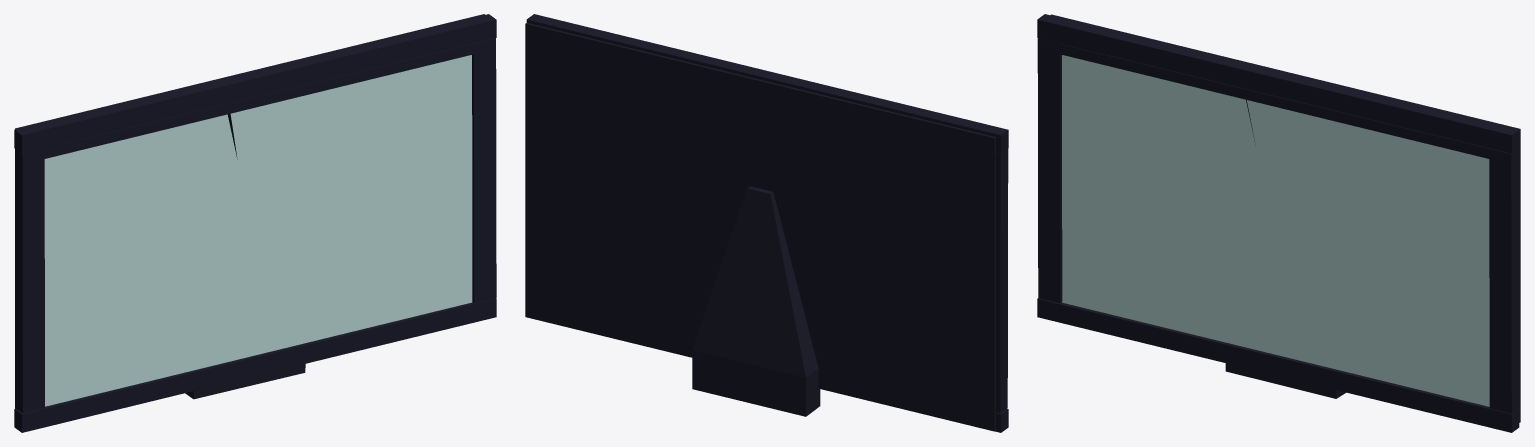
3 renders of one model, left to right at view 1: azimuth 30°, elevation 25°; view 2: azimuth 150°, elevation 25°; view 3: azimuth 330°, elevation 25°, orthographic.
Parts seen in each view (by area): view 1: Cube.001, Cube.001_cell.008, Cube.001_cell.073, Cube.001_cell.032, Cube.001_cell.031, Cube.001_cell.028, Cube.001_cell.033, Cube.001_cell.017, Cube.001_cell.013, Cube.001_cell.079, Cube.001_cell.065, Cube.001_cell.083 (+8 smaller); view 2: Cube.001, Cube.001_cell.029, Cube.001_cell.087, Cube.001_cell.050, Cube.001_cell.025, Cube.001_cell.070, Cube.001_cell.022, Cube.001_cell.044, Cube.001_cell.049, Cube.001_cell.069, Cube.001_cell.023, Cube.001_cell.027 (+8 smaller); view 3: Cube.001, Cube.001_cell.008, Cube.001_cell.032, Cube.001_cell.031, Cube.001_cell.073, Cube.001_cell.028, Cube.001_cell.033, Cube.001_cell.017, Cube.001_cell.079, Cube.001_cell.083, Cube.001_cell.065, Cube.001_cell.013 (+8 smaller).
Boxes of the visible parts, x1,y1,x2,y2 form: Cube.001: [14, 14, 496, 432]; Cube.001_cell.008: [127, 81, 237, 235]; Cube.001_cell.073: [201, 152, 354, 276]; Cube.001_cell.032: [262, 69, 374, 192]; Cube.001_cell.031: [380, 80, 496, 203]; Cube.001_cell.028: [369, 51, 441, 180]; Cube.001_cell.033: [82, 100, 142, 227]; Cube.001_cell.017: [30, 113, 94, 231]; Cube.001_cell.013: [61, 220, 141, 271]; Cube.001_cell.079: [439, 38, 496, 91]; Cube.001_cell.065: [230, 102, 278, 161]; Cube.001_cell.083: [282, 50, 370, 90]; Cube.001: [525, 14, 1008, 432]; Cube.001_cell.029: [559, 179, 714, 351]; Cube.001_cell.087: [800, 228, 939, 407]; Cube.001_cell.050: [919, 252, 995, 373]; Cube.001_cell.025: [728, 283, 813, 411]; Cube.001_cell.070: [706, 246, 788, 318]; Cube.001_cell.022: [525, 192, 568, 285]; Cube.001_cell.044: [818, 349, 920, 413]; Cube.001_cell.049: [920, 372, 995, 431]; Cube.001_cell.069: [793, 268, 840, 386]; Cube.001_cell.023: [692, 308, 756, 365]; Cube.001_cell.027: [719, 186, 785, 271]; Cube.001: [1037, 14, 1520, 432]; Cube.001_cell.008: [1146, 44, 1256, 194]; Cube.001_cell.032: [1281, 101, 1393, 240]; Cube.001_cell.031: [1400, 182, 1519, 305]; Cube.001_cell.073: [1223, 152, 1369, 293]; Cube.001_cell.028: [1386, 123, 1459, 239]; Cube.001_cell.033: [1101, 32, 1167, 163]; Cube.001_cell.017: [1045, 25, 1112, 135]; Cube.001_cell.079: [1456, 141, 1518, 193]; Cube.001_cell.083: [1297, 82, 1390, 122]; Cube.001_cell.065: [1247, 100, 1297, 154]; Cube.001_cell.013: [1080, 134, 1158, 194].
Bounding box in the file's own units: 763 × 483 × 64.48.
